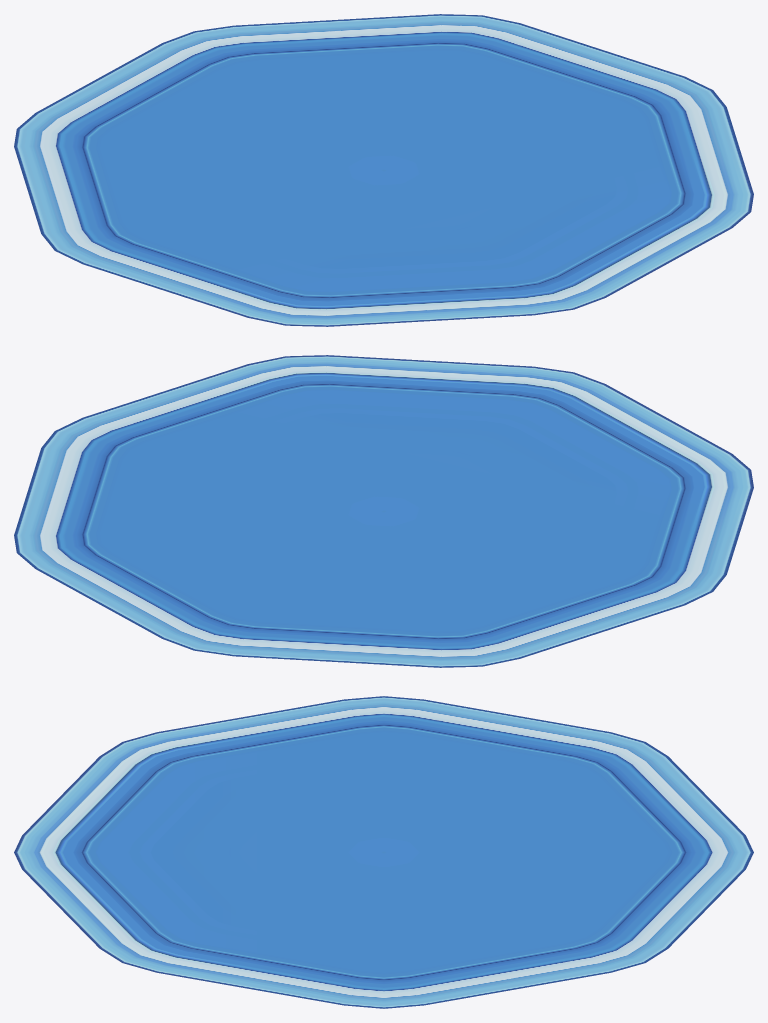
File: my_millenniumlounge_01_carpet_01.glb
3 views of the same model, one above another, from view 1: azimuth 30°, elevation 25°; view 2: azimuth 150°, elevation 25°; view 3: azimuth 270°, elevation 25° (orthographic). The views are drawn at different scales.
Visible parts, largest first — view 1: my_millenniumlounge_01_carpet_01; view 2: my_millenniumlounge_01_carpet_01; view 3: my_millenniumlounge_01_carpet_01.
Part boxes in pixels (x1,y1,x2,y2): my_millenniumlounge_01_carpet_01: [14, 14, 753, 326]; my_millenniumlounge_01_carpet_01: [14, 355, 753, 667]; my_millenniumlounge_01_carpet_01: [14, 696, 753, 1008].
Bounding box in the file's own units: 0.0235 × 1.16e-12 × 0.0235.
Materials: 1 (1 with a texture image).
